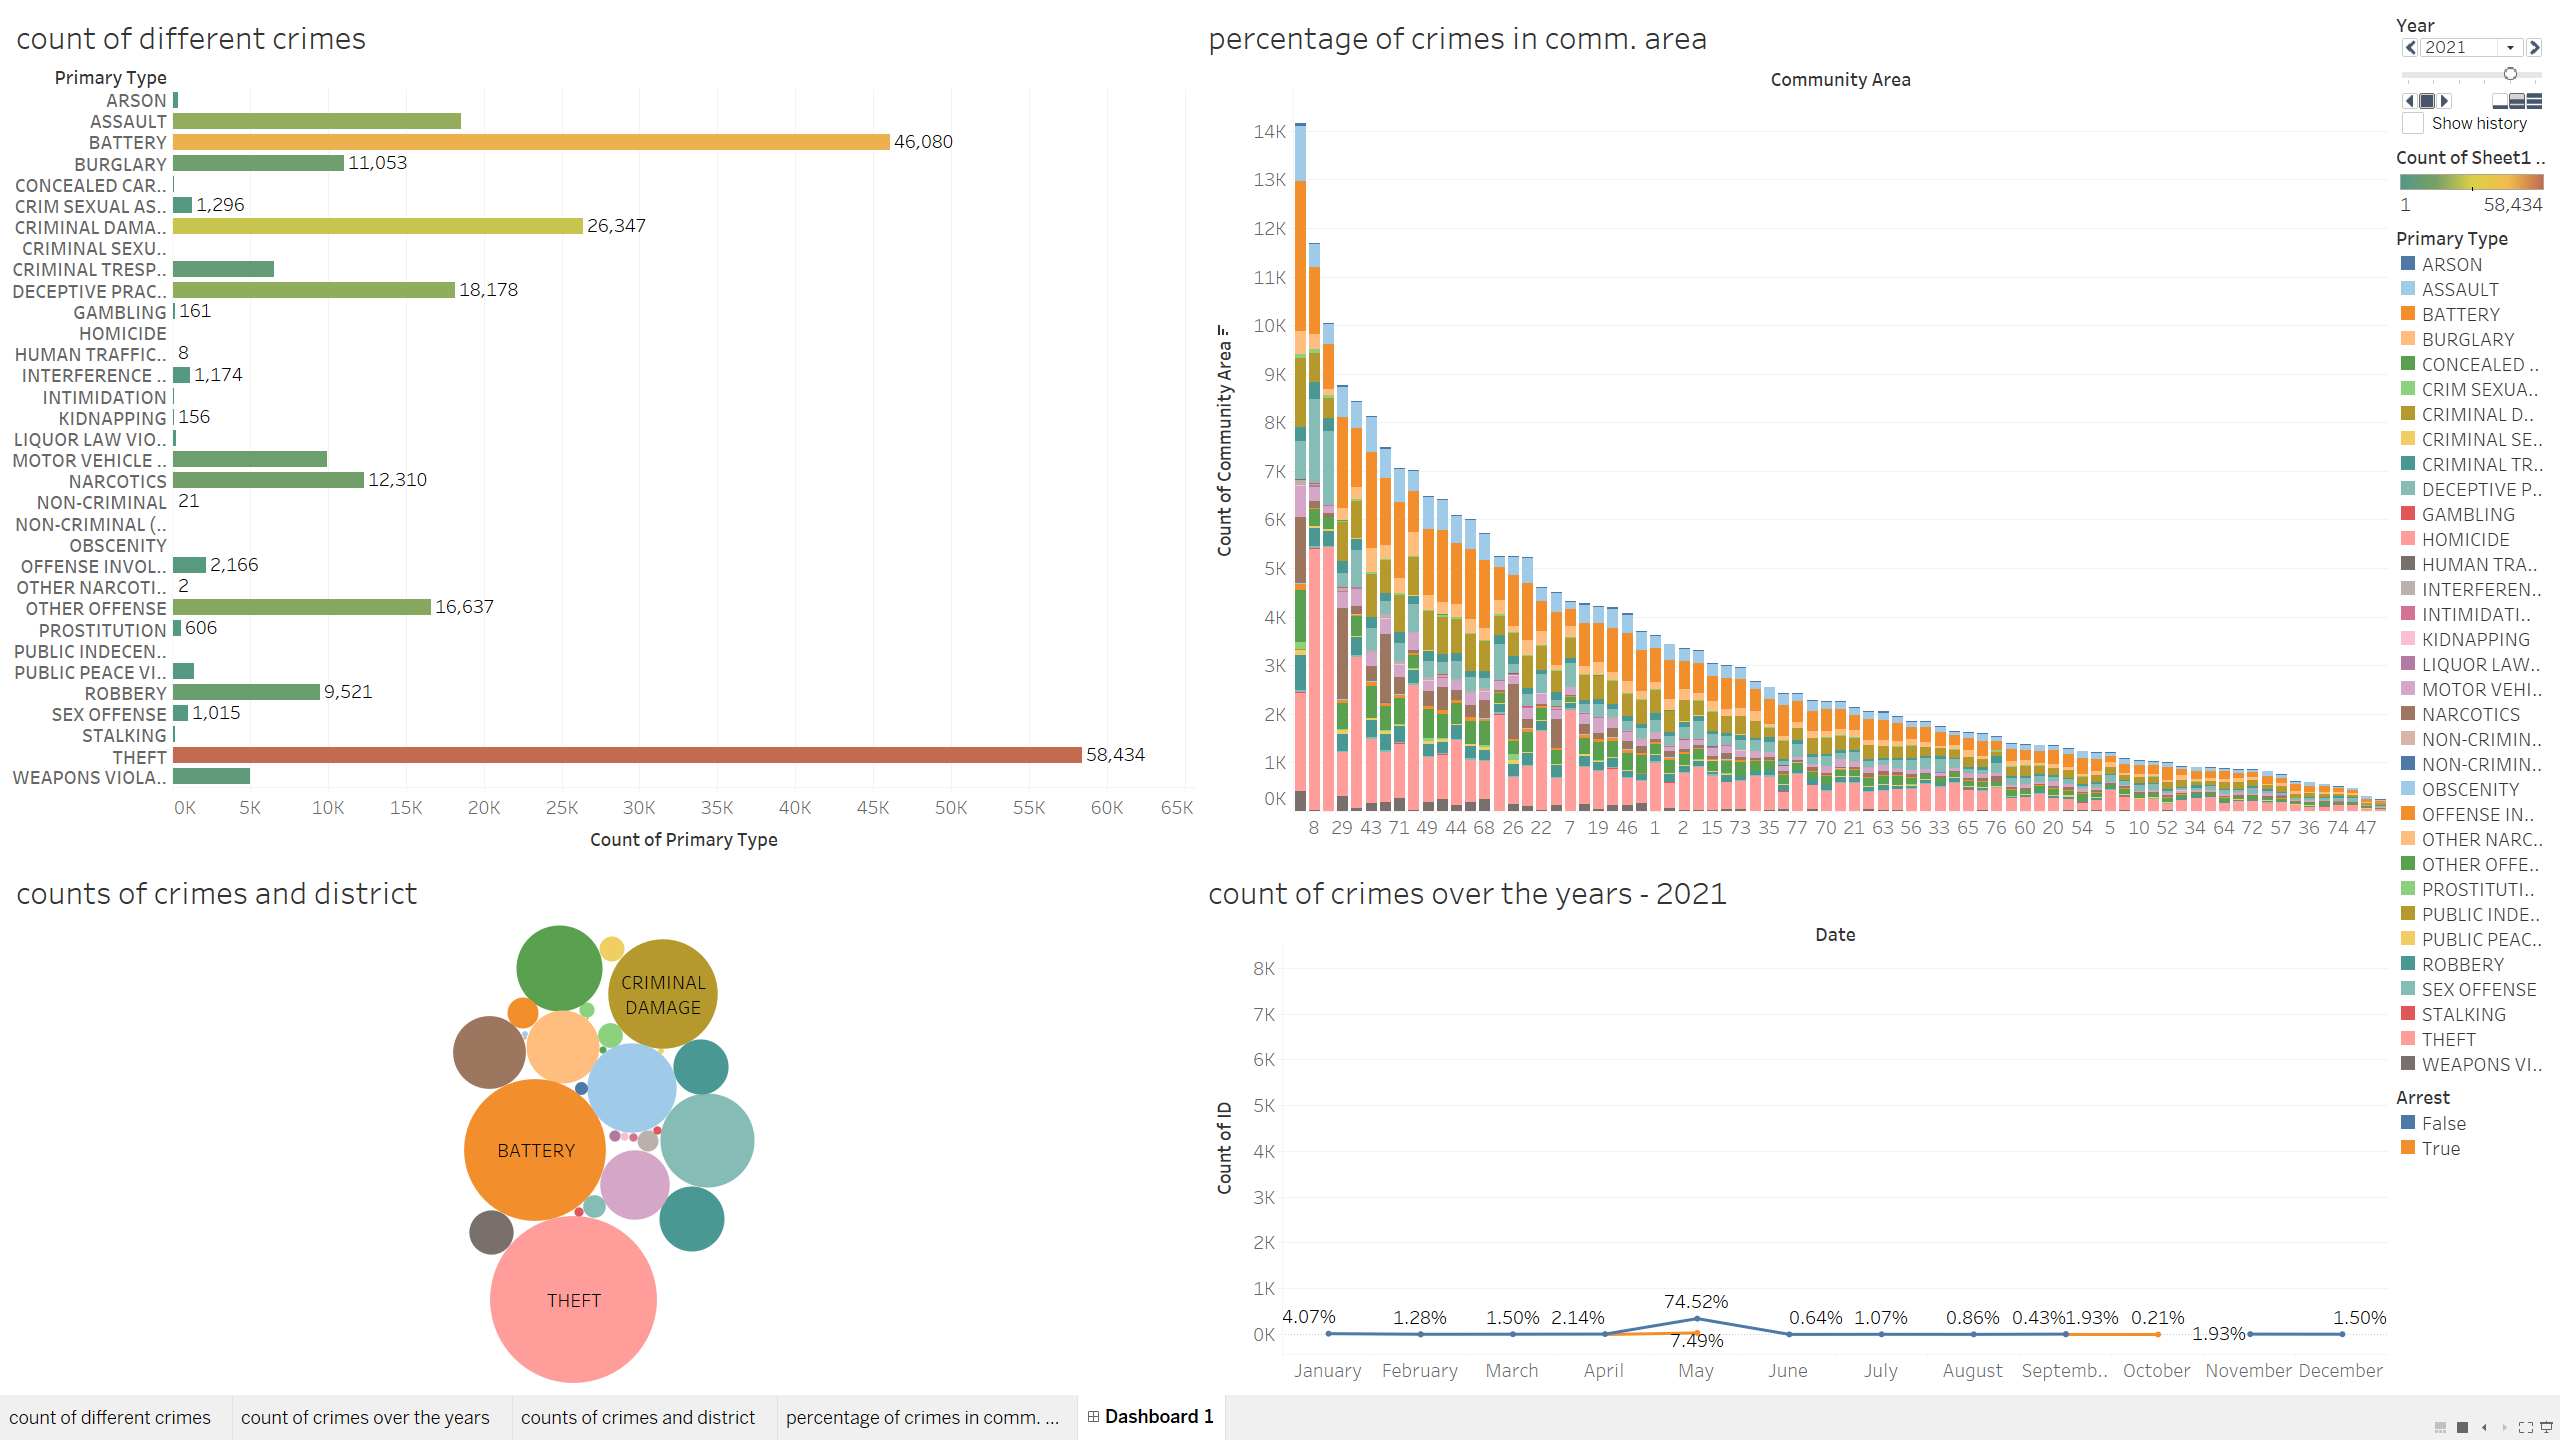

The page's visual inventory and layout, read from the dashboard file:
{"tool":"tableau","page":{"name":"Dashboard 1","canvas":[1000,1000],"units":"permille","ordinal":0},"visuals":[{"type":"worksheet","title":"count of different crimes","mark":"Automatic","rows":["Primary Type"],"cols":["Primary Type"],"box":[3.6,7.2,460.2,611.5]},{"type":"worksheet","title":"percentage of crimes in comm. area","mark":"Automatic","rows":["Community Area"],"cols":["Community Area"],"box":[463.8,7.2,460.3,611.5]},{"type":"currpage","title":"count of crimes over the years","box":[924.2,7.2,72.2,118.7]},{"type":"legend","title":"count of different crimes","param":"[federated.1qp0yf51ma5f4c1fz96220xcwsqt].[__tableau_internal_object_id__].[cnt:S","box":[924.2,125.9,72.2,72.8]},{"type":"legend","title":"percentage of crimes in comm. area","param":"[federated.1qp0yf51ma5f4c1fz96220xcwsqt].[none:Primary Type:nk]","box":[924.2,198.7,72.2,718.5]},{"type":"worksheet","title":"counts of crimes and district","mark":"Circle","box":[3.6,618.6,460.2,374.2]},{"type":"worksheet","title":"count of crimes over the years","mark":"Line","rows":["ID"],"cols":["Date"],"box":[463.8,618.6,460.3,374.2]},{"type":"legend","title":"count of crimes over the years","param":"[federated.1qp0yf51ma5f4c1fz96220xcwsqt].[none:Arrest:nk]","box":[924.2,917.3,72.2,75.5]}]}

Visuals, with their boxes on the dashboard's canvas, which has no fixed pixel size, in thousandths of its width and height (x1, y1, x2, y2). These are canvas units, not pixel positions in the 2560x1440 screenshot, which may show the page scaled, cropped or inside an application window:
"count of different crimes" worksheet: 4,7,464,619
"percentage of crimes in comm. area" worksheet: 464,7,924,619
"count of crimes over the years" currpage: 924,7,996,126
"count of different crimes" legend: 924,126,996,199
"percentage of crimes in comm. area" legend: 924,199,996,917
"counts of crimes and district" worksheet (Circle marks): 4,619,464,993
"count of crimes over the years" worksheet (Line marks): 464,619,924,993
"count of crimes over the years" legend: 924,917,996,993
